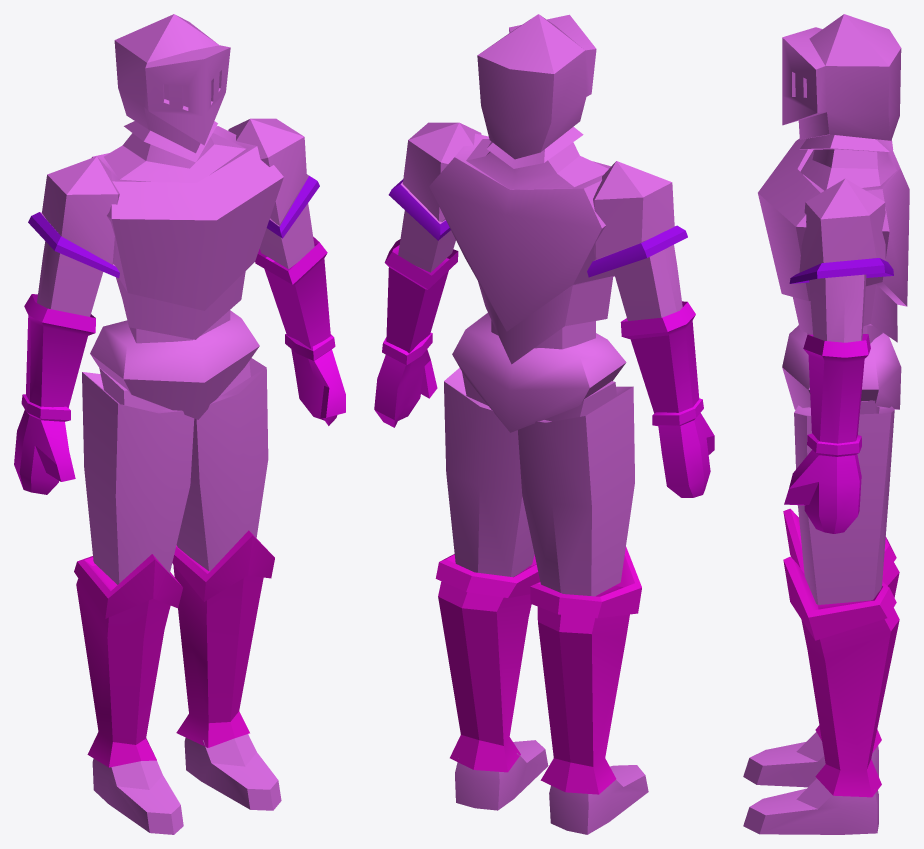
File: BS_KnightFinal.fbx
3 renders of one model, left to right at view 1: azimuth 30°, elevation 25°; view 2: azimuth 150°, elevation 25°; view 3: azimuth 270°, elevation 25°, orthographic. The views are drawn at different scales.
Visible parts, largest first — view 1: Icosphere; view 2: Icosphere; view 3: Icosphere.
Part boxes in pixels (bbox=[...]): Icosphere: bbox=[14, 14, 345, 834]; Icosphere: bbox=[374, 14, 714, 834]; Icosphere: bbox=[743, 14, 909, 834].
Bounding box in the file's own units: 716 × 1672 × 321.
